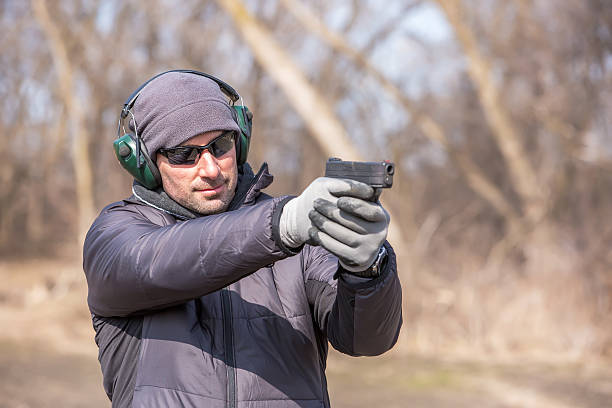gun: (325, 157, 396, 202)
